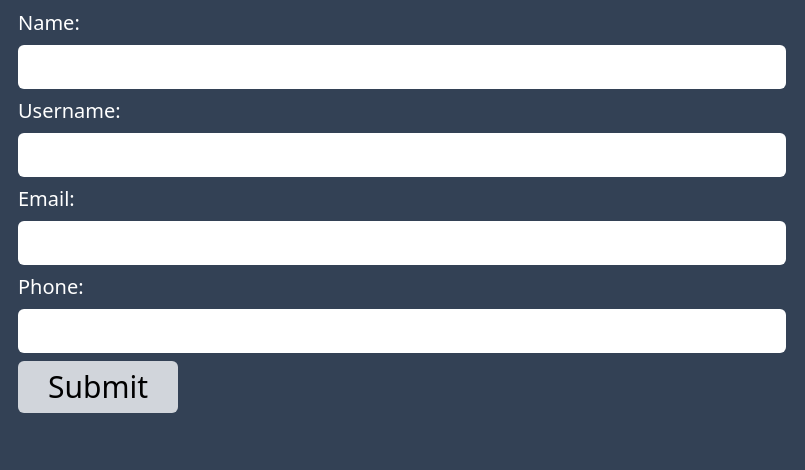
Form validation › Name field empty check
Type "validUsername" into the field named "username" at (402, 155), box left=18, top=133, right=786, bottom=177
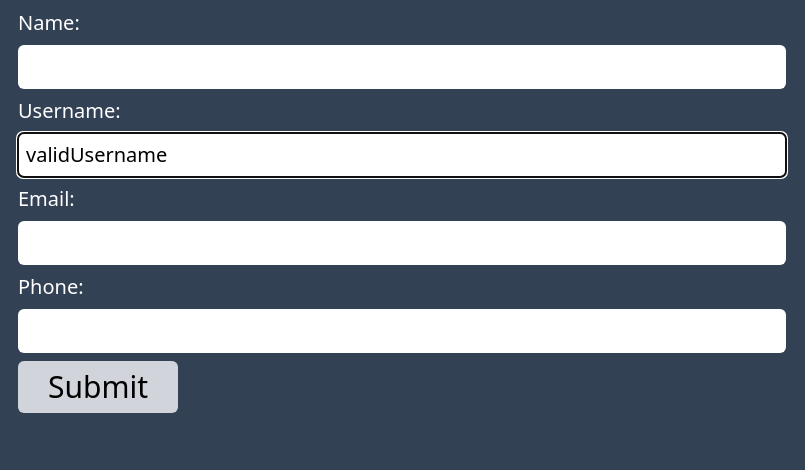
Type "validEmail@gmail.com" into the field named "email" at (402, 243), box left=18, top=221, right=786, bottom=265
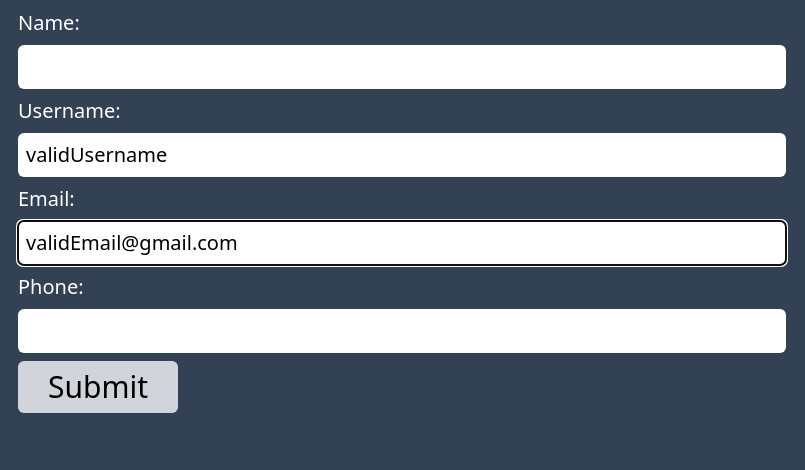
Type "01234567891" into the field named "phone" at (402, 331), box left=18, top=309, right=786, bottom=353
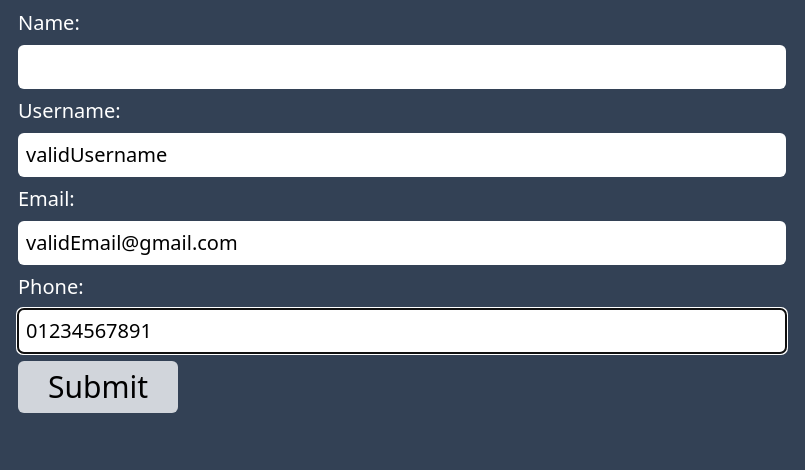
Click the submit button at (98, 387), box left=18, top=361, right=178, bottom=413
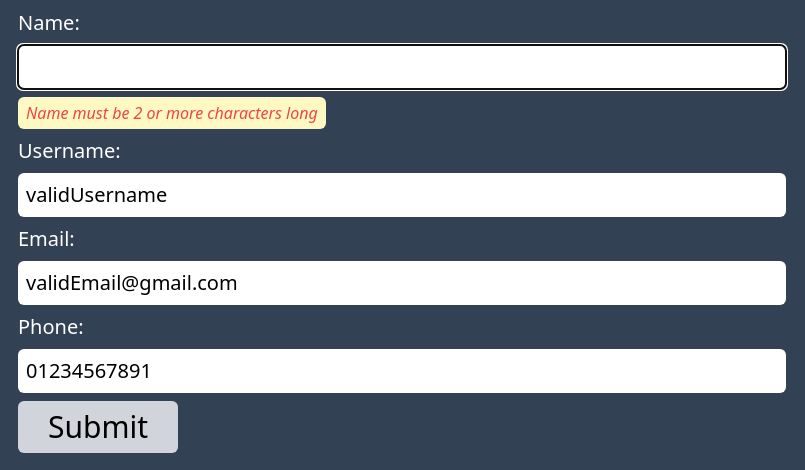
Now the text with test id "nameError" reads "Name must be 2 or more characters long", box left=26, top=102, right=318, bottom=124
